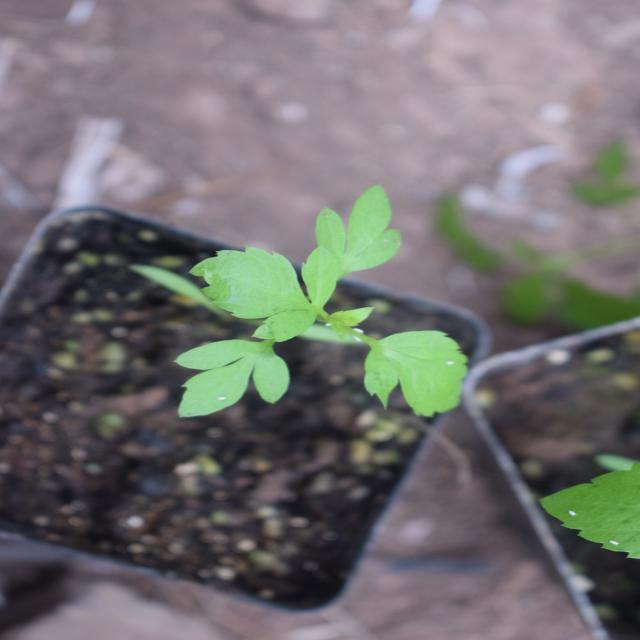Bidens pilosa: (164, 154, 426, 493)
